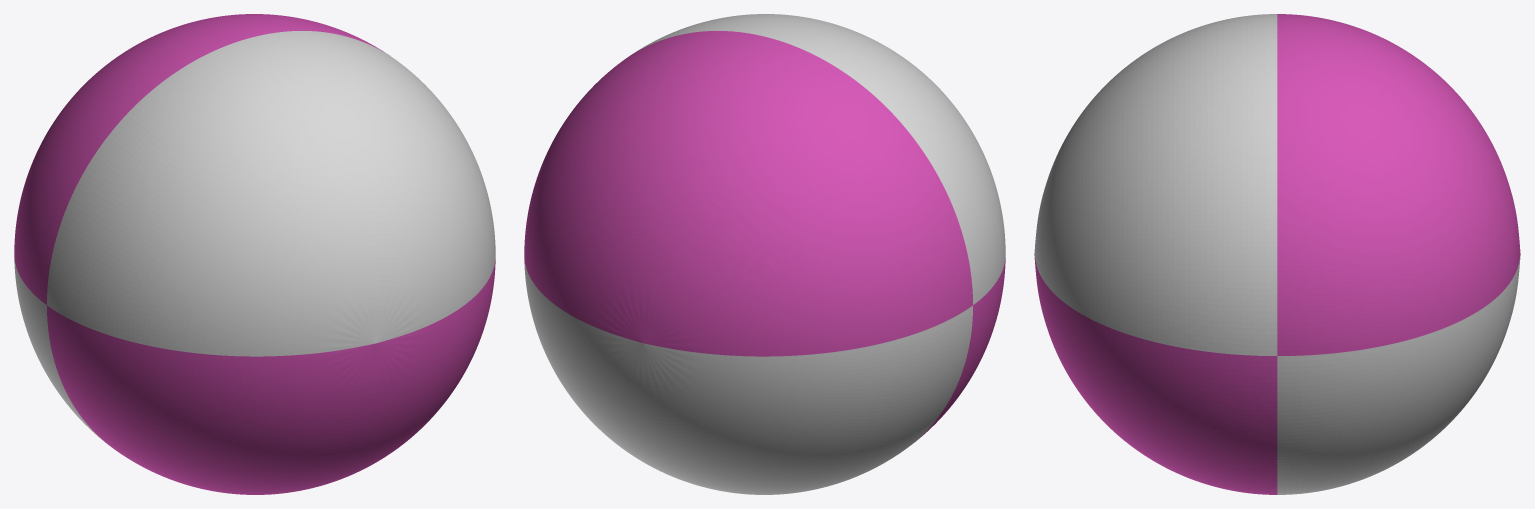
Rendered from BallV0.fbx.
3 views of the same model, side by side, from view 1: azimuth 30°, elevation 25°; view 2: azimuth 150°, elevation 25°; view 3: azimuth 270°, elevation 25° (orthographic).
Visible parts, largest first — view 1: Sphere; view 2: Sphere; view 3: Sphere.
Boxes of the visible parts, box(x1,y1,x2,y2) form: Sphere: box(14, 14, 495, 494); Sphere: box(524, 14, 1005, 494); Sphere: box(1034, 14, 1520, 494).
Size of the model in its own units: 197 by 197 by 200.
